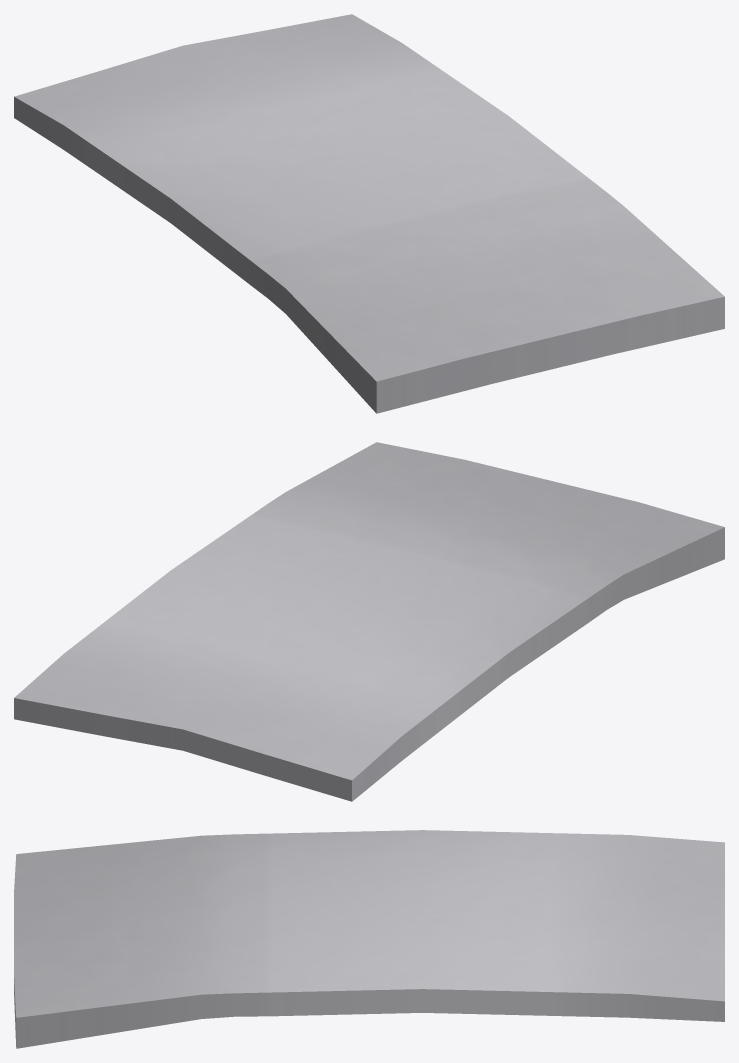
Rendered from chedinggai.FBX.
The picture shows the model from 3 angles, top to bottom: view 1: azimuth 30°, elevation 25°; view 2: azimuth 150°, elevation 25°; view 3: azimuth 270°, elevation 25°; orthographic projection. The views are drawn at different scales.
Visible parts, largest first — view 1: chedinggai; view 2: chedinggai; view 3: chedinggai.
Part boxes in pixels (left/top/right/bottom): chedinggai: left=14, top=14, right=724, bottom=413; chedinggai: left=14, top=442, right=724, bottom=801; chedinggai: left=14, top=830, right=724, bottom=1048.
Size of the model in its own units: 360 by 61.6 by 660.
